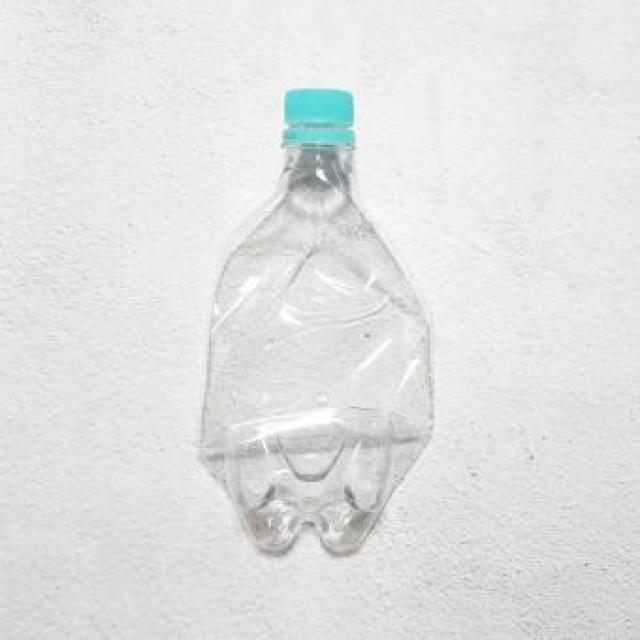bottle: (194, 89, 437, 557)
